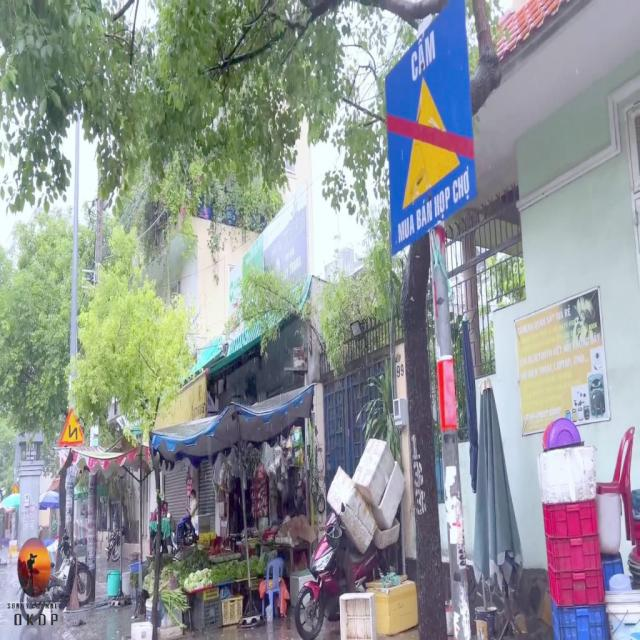cho_ngoat_nguy_hiem_lien_tiep: (58, 408, 84, 446)
